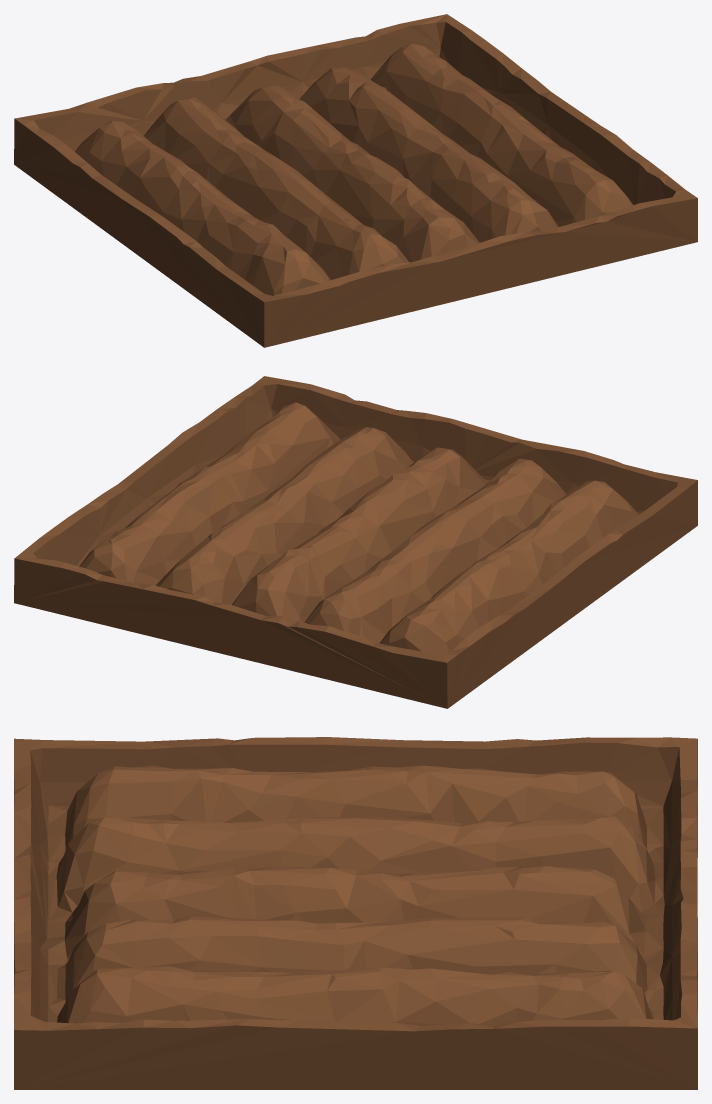
File: FMS_Bed_Plot_4x4.fbx
3 views of the same model, one above another, from view 1: azimuth 30°, elevation 25°; view 2: azimuth 150°, elevation 25°; view 3: azimuth 270°, elevation 25° (orthographic). The views are drawn at different scales.
Parts seen in each view (by area): view 1: FMS_Bed_Plot_4x4; view 2: FMS_Bed_Plot_4x4; view 3: FMS_Bed_Plot_4x4.
Boxes of the visible parts, <box> form: FMS_Bed_Plot_4x4: <box>14,14,697,347</box>; FMS_Bed_Plot_4x4: <box>14,376,697,708</box>; FMS_Bed_Plot_4x4: <box>14,737,697,1089</box>.
Size of the model in its own units: 4 by 0.5 by 4.
